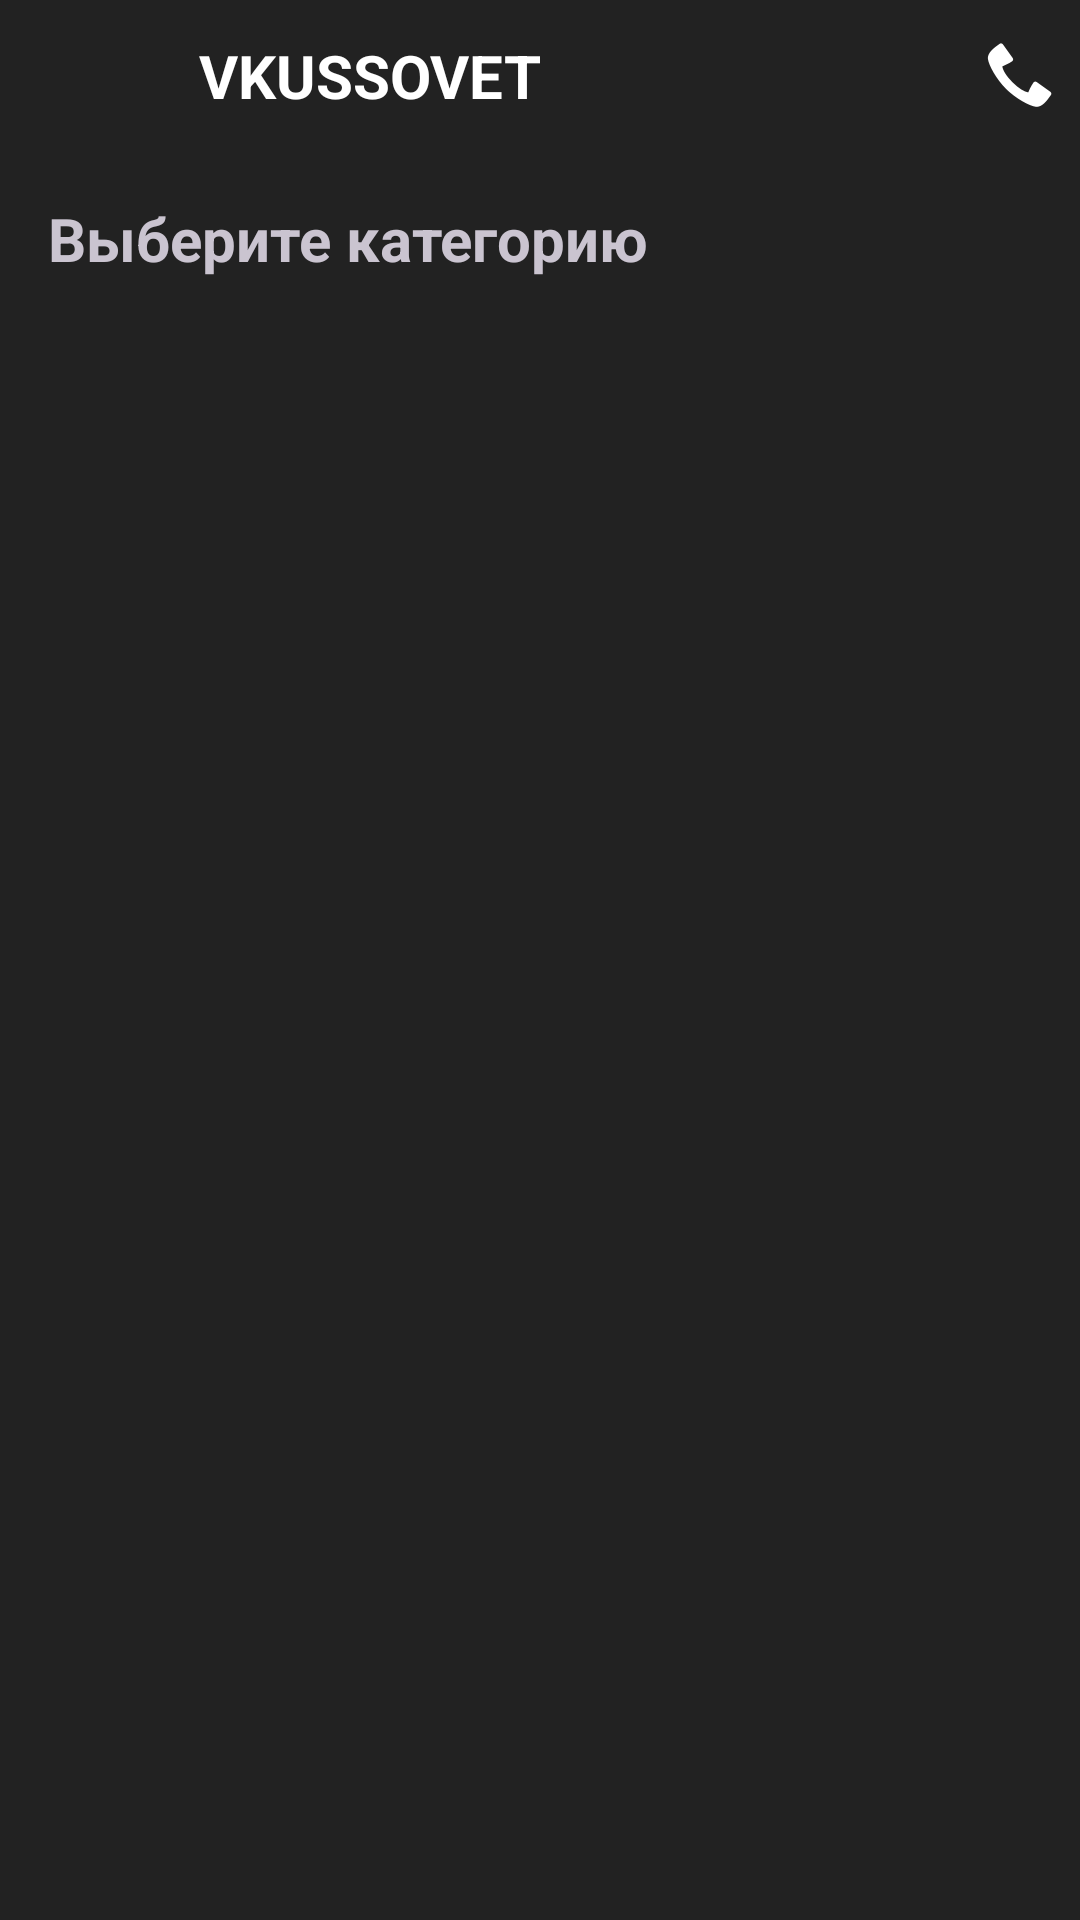

Icon click points for this 1080x1920 phone screenshot, format (x=x, y=y):
phone call: (x=1020, y=75)
